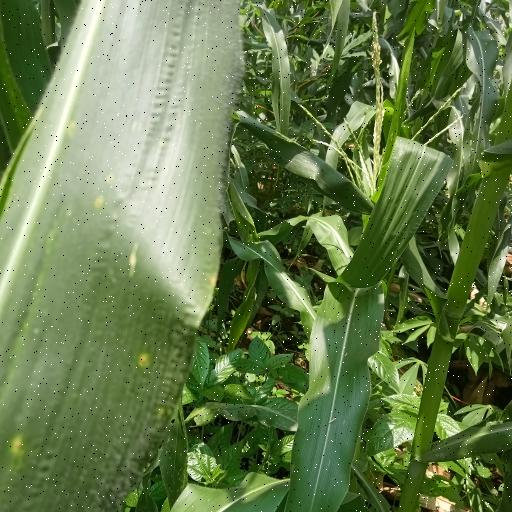Corn_Brown_Spots: (23, 0, 222, 488)
